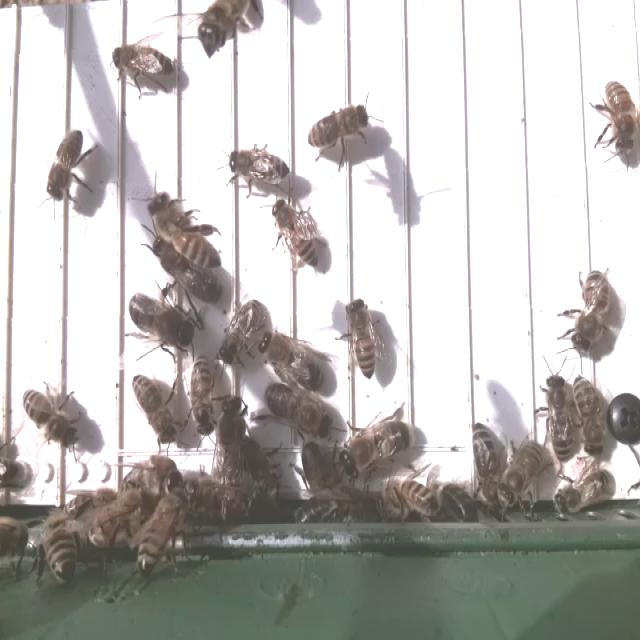Drone: (333, 414, 415, 482), (262, 376, 333, 444), (257, 327, 326, 393), (127, 287, 194, 351)
Worker: (146, 187, 224, 269), (566, 261, 613, 356), (20, 385, 84, 452), (269, 197, 323, 274), (130, 370, 178, 445), (342, 294, 382, 382), (304, 103, 372, 153), (44, 128, 87, 207), (215, 299, 262, 367), (544, 369, 576, 468), (224, 144, 294, 189), (601, 74, 638, 155), (575, 377, 609, 462), (470, 418, 501, 509), (108, 42, 175, 84), (189, 349, 218, 438)
